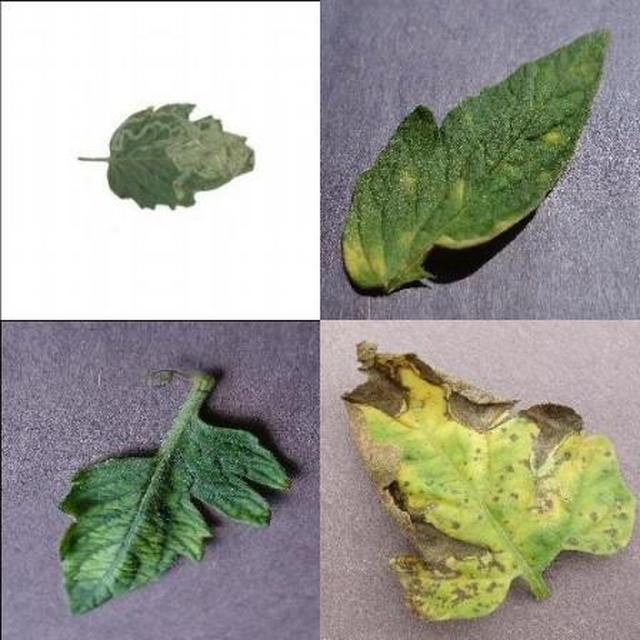Leaf Miner: (214, 159, 640, 640)
